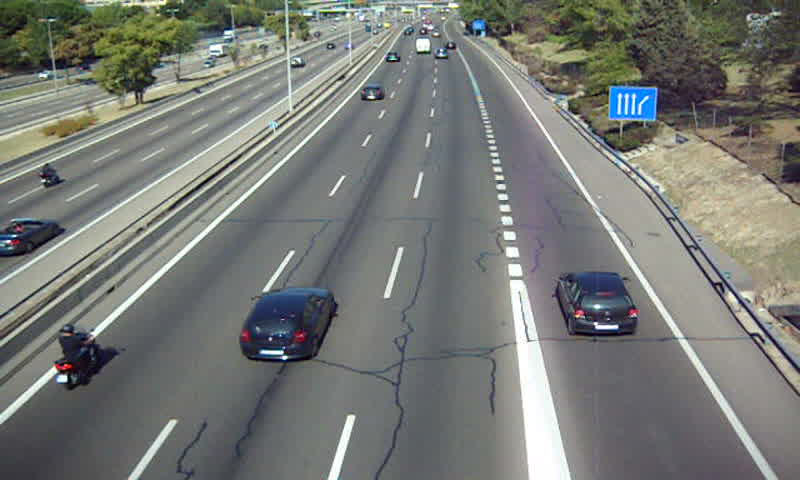car: (241, 290, 333, 362), (558, 272, 639, 334), (361, 85, 384, 101)
motorcycle: (53, 322, 101, 392)
